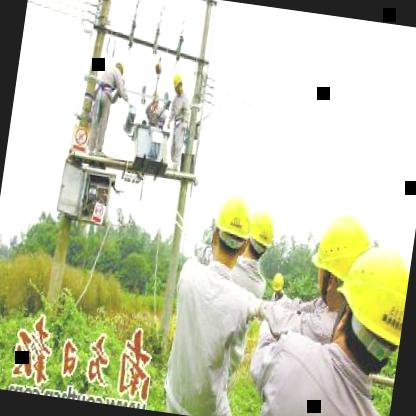helmet: (316, 224, 414, 367), (298, 200, 376, 319), (206, 182, 266, 271), (236, 193, 281, 272), (169, 69, 184, 96)
